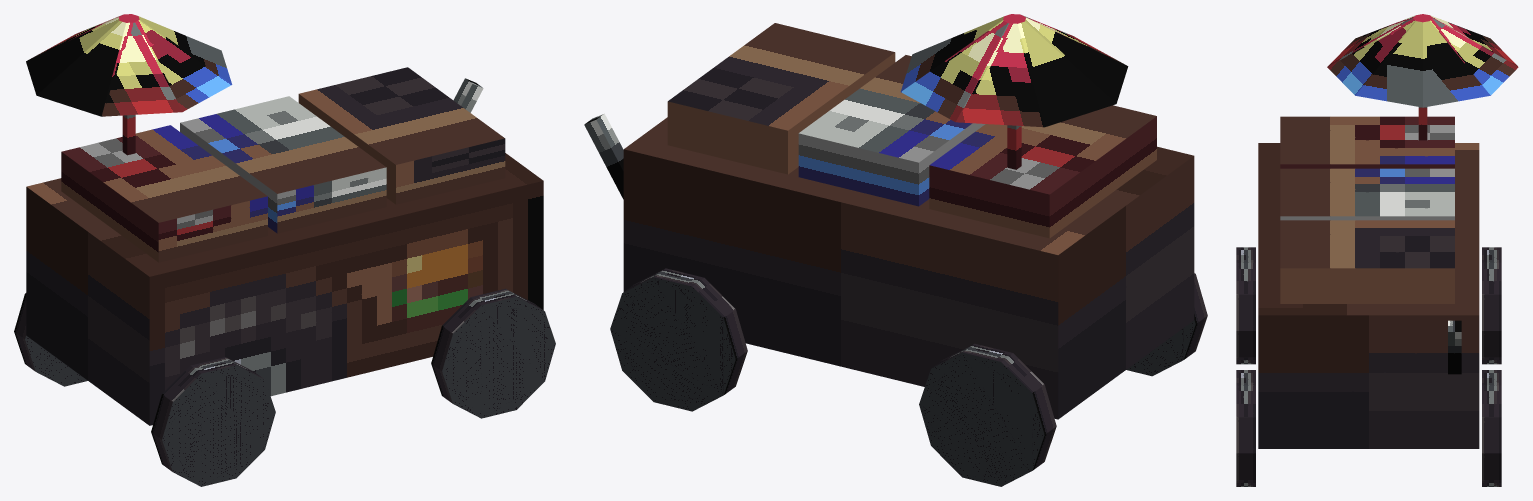
File: food_cart.glb
The picture shows the model from 3 angles, left to right: view 1: azimuth 30°, elevation 25°; view 2: azimuth 150°, elevation 25°; view 3: azimuth 270°, elevation 25°; orthographic projection. The views are drawn at different scales.
Visible parts, largest first — view 1: Cart, Parasol; view 2: Cart, Parasol; view 3: Cart, Parasol.
Part boxes in pixels (bbox=[...]): Cart: bbox=[14, 67, 555, 486]; Parasol: bbox=[26, 14, 232, 155]; Cart: bbox=[584, 23, 1207, 486]; Parasol: bbox=[900, 14, 1128, 169]; Cart: bbox=[1236, 116, 1501, 486]; Parasol: bbox=[1327, 14, 1518, 140].
Size of the model in its own units: 1.94 by 1.55 by 1.15.
Materials: 1 (1 with a texture image).
